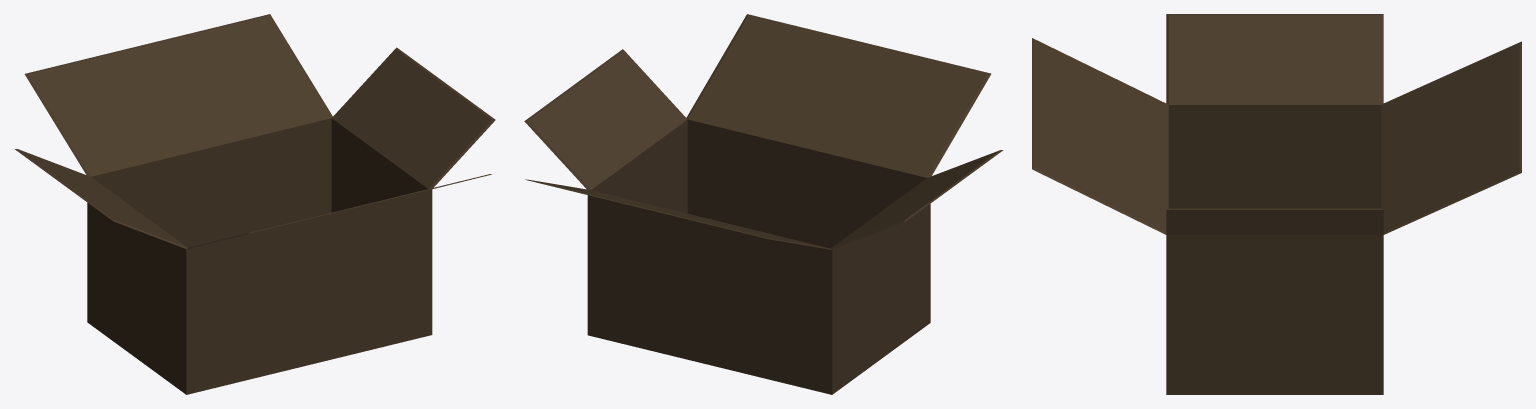
File: CartonBox_Open.fbx
3 renders of one model, left to right at view 1: azimuth 30°, elevation 25°; view 2: azimuth 150°, elevation 25°; view 3: azimuth 270°, elevation 25°, orthographic. The views are drawn at different scales.
Visible parts, largest first — view 1: pasted__pCube1; view 2: pasted__pCube1; view 3: pasted__pCube1.
Boxes of the visible parts, x1,y1,x2,y2 form: pasted__pCube1: (15,14,495,394); pasted__pCube1: (524,14,1003,394); pasted__pCube1: (1032,14,1521,394).
Size of the model in its own units: 93.06 by 47.77 by 94.02.
